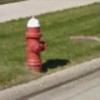a fire hydrant: (20, 18, 48, 73)
